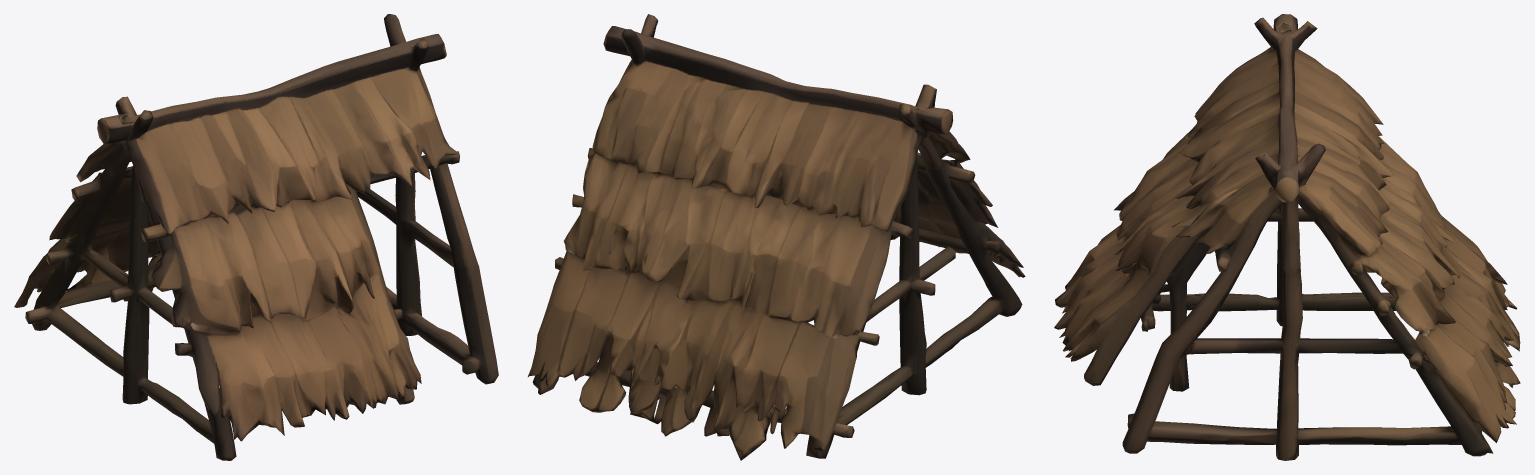
File: lean_to.glb
The picture shows the model from 3 angles, left to right: view 1: azimuth 30°, elevation 25°; view 2: azimuth 150°, elevation 25°; view 3: azimuth 270°, elevation 25°; orthographic projection.
Visible parts, largest first — view 1: world; view 2: world; view 3: world.
Boxes of the visible parts, left/top/right/bottom form: world: left=14, top=14, right=498, bottom=460; world: left=528, top=14, right=1025, bottom=460; world: left=1054, top=14, right=1520, bottom=460.
Size of the model in its own units: 0.8511 by 0.7403 by 0.9998.
Materials: 1 (1 with a texture image).
